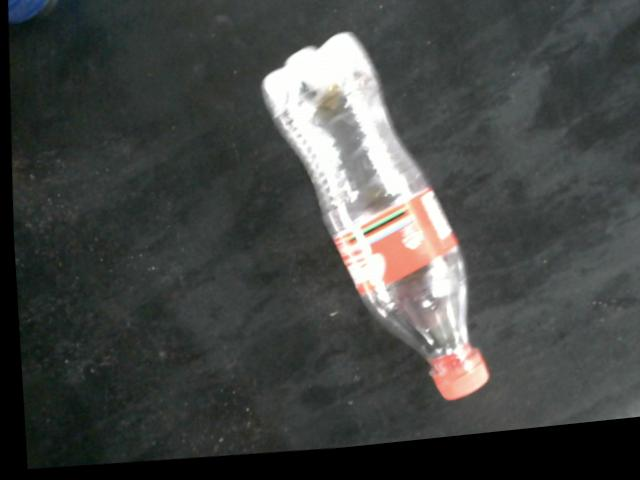bottle: (258, 39, 485, 410)
